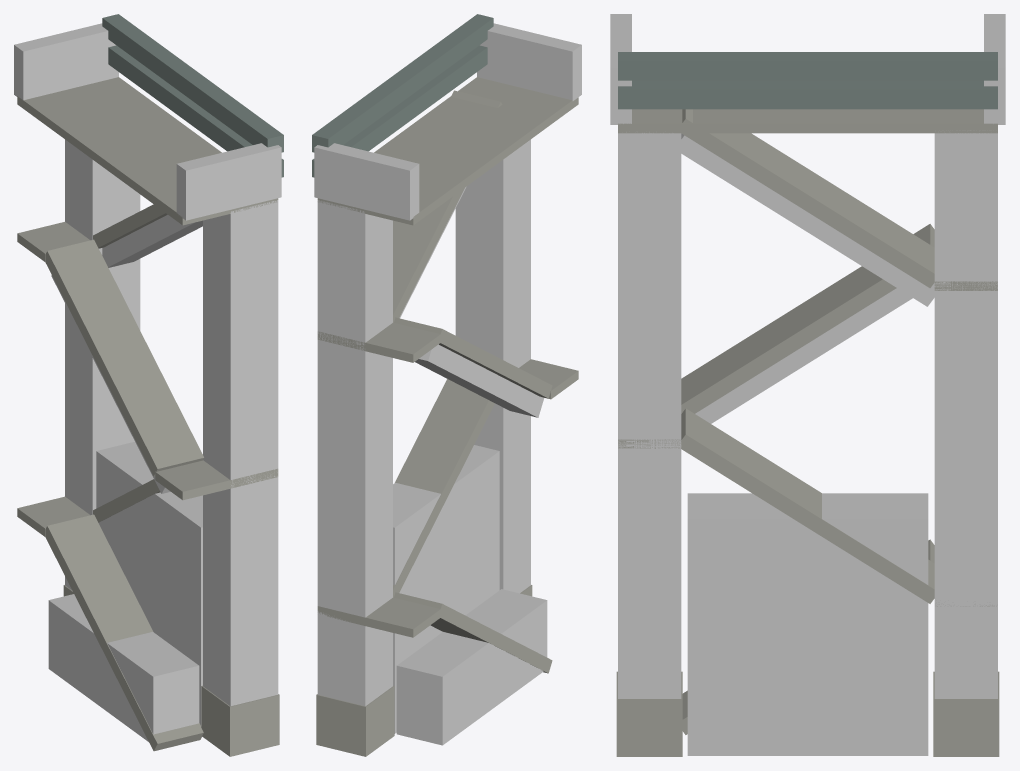
The model's file is SM_EscaleraAzotea_v2_Obra_LOD1.fbx.
3 views of the same model, side by side, from view 1: azimuth 30°, elevation 25°; view 2: azimuth 150°, elevation 25°; view 3: azimuth 270°, elevation 25° (orthographic). The views are drawn at different scales.
Parts seen in each view (by area): view 1: SM_escalera_azotea_v2_LOD1; view 2: SM_escalera_azotea_v2_LOD1; view 3: SM_escalera_azotea_v2_LOD1.
Part boxes in pixels (<box>): SM_escalera_azotea_v2_LOD1: <box>14,14,283,756</box>; SM_escalera_azotea_v2_LOD1: <box>312,14,581,756</box>; SM_escalera_azotea_v2_LOD1: <box>610,14,1005,756</box>.
Size of the model in its own units: 2.12 by 12.27 by 6.24.
